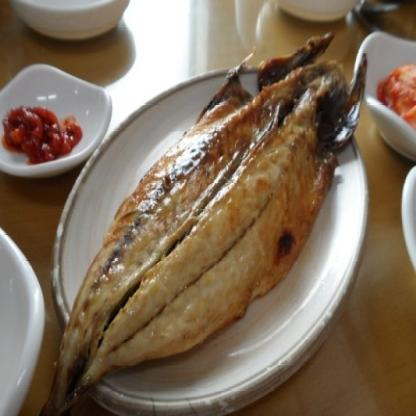Peixe: (38, 26, 373, 416)
